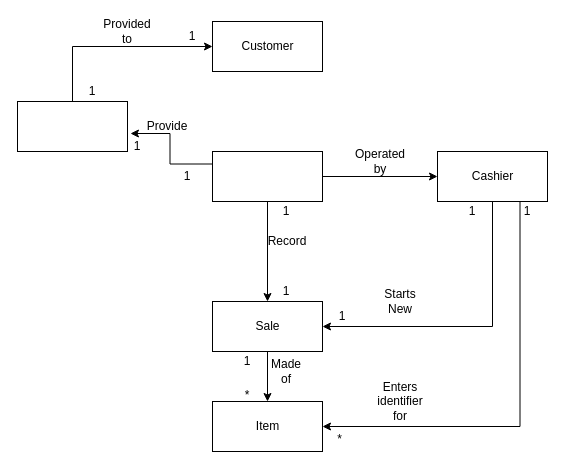
The diagram is 565 pixels wide and 469 high, and some of its shapes have lost their labels. Each missing label, with the centre of its shape:
"POS System" goes at point (267, 176).
"Receipt" goes at point (72, 126).
